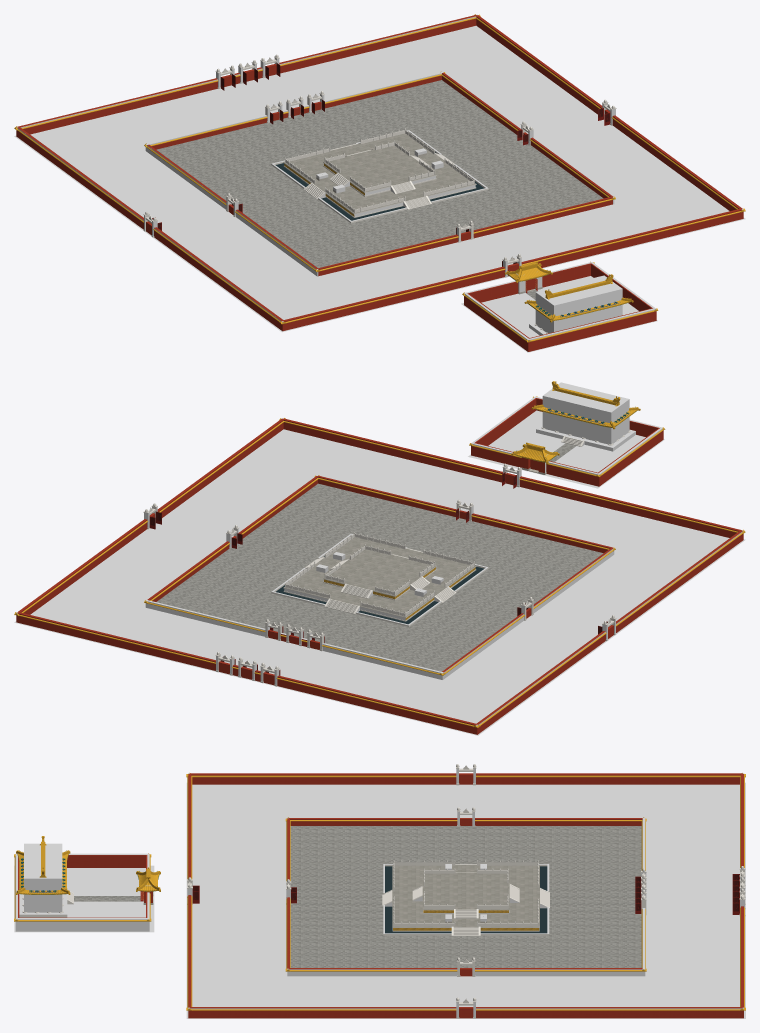
The model's file is ditan.glb.
3 renders of one model, top to bottom at view 1: azimuth 30°, elevation 25°; view 2: azimuth 150°, elevation 25°; view 3: azimuth 270°, elevation 25°, orthographic. The views are drawn at different scales.
Visible parts, largest first — view 1: Altar, FOOTPRINT_precinct, Massing, COL_hall, FOOTPRINT_court; view 2: Altar, FOOTPRINT_precinct, Massing, COL_hall, FOOTPRINT_court, COL_wall27, COL_wall24, CLEAR_hall_clear, COL_hallbase; view 3: FOOTPRINT_precinct, Altar, Massing, FOOTPRINT_court, COL_hall, COL_wall53, COL_wall23, COL_wall22, COL_wall45, COL_wall44.
Boxes of the visible parts, x1,y1,x2,y2 form: Altar: [14, 14, 745, 351]; FOOTPRINT_precinct: [14, 25, 745, 332]; Massing: [17, 15, 742, 338]; COL_hall: [535, 275, 622, 333]; FOOTPRINT_court: [461, 276, 657, 352]; Altar: [14, 381, 745, 734]; FOOTPRINT_precinct: [14, 429, 745, 735]; Massing: [17, 387, 742, 725]; COL_hall: [542, 382, 629, 444]; FOOTPRINT_court: [468, 410, 664, 488]; COL_wall27: [322, 643, 443, 679]; COL_wall24: [145, 600, 265, 636]; CLEAR_hall_clear: [525, 423, 640, 457]; COL_hallbase: [536, 424, 635, 451]; FOOTPRINT_precinct: [186, 782, 745, 1018]; Altar: [14, 764, 745, 1018]; Massing: [18, 773, 743, 1018]; FOOTPRINT_court: [14, 865, 154, 932]; COL_hall: [24, 843, 62, 912]; COL_wall53: [15, 918, 149, 931]; COL_wall23: [475, 969, 642, 976]; COL_wall22: [290, 969, 457, 976]; COL_wall45: [476, 1007, 743, 1009]; COL_wall44: [191, 1008, 456, 1009].
Bounding box in the file's own units: 134 × 12.35 × 175.
12 materials, 6 textured.
